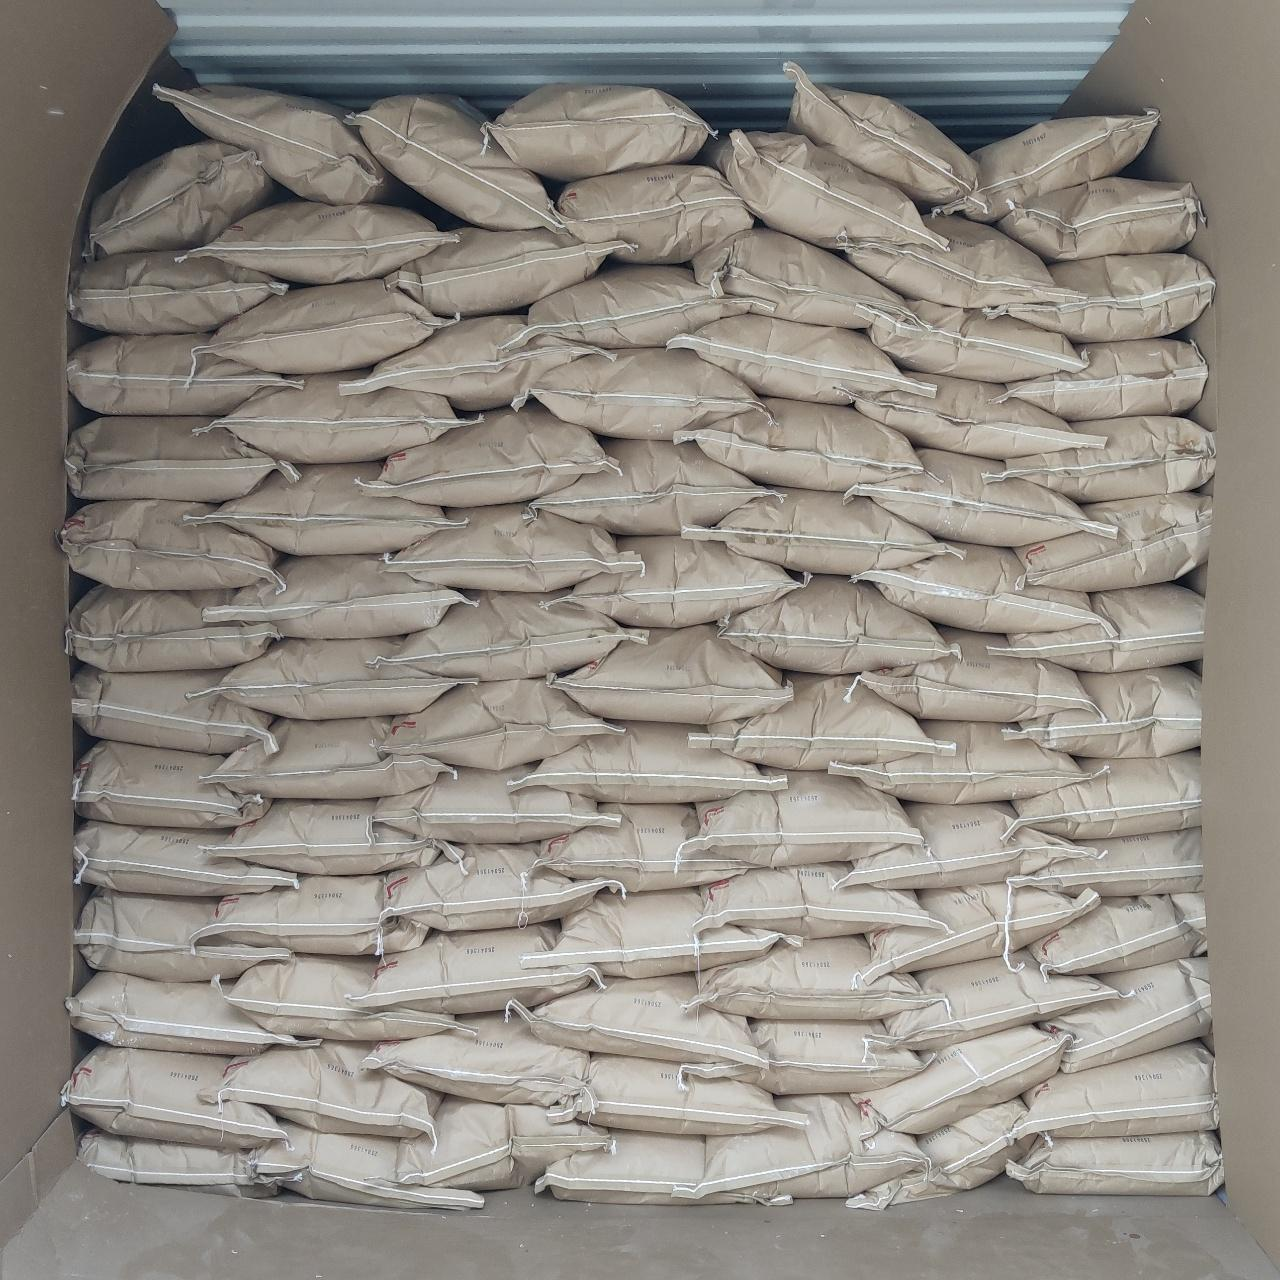sack: (700, 130, 942, 248), (348, 96, 560, 230), (154, 84, 398, 200), (786, 66, 982, 208), (186, 462, 456, 554), (344, 314, 612, 406), (848, 448, 1108, 542), (858, 884, 1096, 986), (372, 404, 612, 504), (212, 372, 476, 462), (854, 1024, 1068, 1134), (550, 626, 788, 724), (200, 280, 446, 374), (696, 674, 940, 768), (872, 954, 1116, 1048), (684, 488, 950, 574), (526, 890, 798, 974), (186, 200, 454, 284), (668, 314, 918, 404), (704, 1096, 920, 1200), (550, 538, 804, 626), (532, 440, 768, 534), (390, 592, 646, 678), (848, 630, 1092, 720), (678, 398, 920, 488), (348, 926, 600, 1012), (506, 976, 756, 1062), (484, 86, 712, 180), (64, 1046, 278, 1146), (694, 226, 908, 326), (386, 504, 634, 590), (352, 1012, 588, 1102), (390, 226, 626, 316), (208, 1042, 438, 1134), (848, 214, 1068, 310), (720, 576, 944, 670), (90, 142, 278, 254), (216, 956, 472, 1038), (856, 544, 1100, 630), (528, 348, 758, 438), (832, 722, 1084, 804), (204, 638, 462, 718), (694, 770, 918, 862), (376, 680, 614, 766), (848, 1100, 1040, 1206), (964, 114, 1156, 220), (68, 972, 316, 1054), (858, 374, 1100, 458), (208, 556, 462, 636), (248, 1122, 482, 1208), (518, 724, 782, 800), (688, 938, 932, 1020), (842, 802, 1080, 886), (546, 1056, 802, 1134), (384, 844, 614, 930), (74, 890, 292, 980), (206, 718, 450, 798), (66, 416, 296, 500), (196, 872, 426, 956), (1016, 492, 1212, 590), (398, 1098, 610, 1188), (1042, 958, 1212, 1070), (62, 500, 278, 588), (554, 166, 752, 262), (534, 1132, 790, 1206), (66, 334, 302, 414), (516, 266, 744, 348), (988, 418, 1214, 500), (990, 584, 1204, 670), (532, 806, 748, 890), (1018, 1042, 1214, 1134), (376, 766, 610, 842), (868, 300, 1084, 382), (214, 800, 460, 872), (68, 586, 278, 670), (1004, 668, 1198, 758), (1012, 254, 1214, 340), (682, 1020, 922, 1092), (72, 666, 276, 750), (696, 864, 934, 936), (72, 252, 286, 332), (1002, 752, 1200, 838), (998, 178, 1206, 258), (74, 742, 270, 824), (74, 822, 296, 894), (1008, 338, 1206, 418), (1020, 894, 1206, 976), (82, 1128, 284, 1196), (1010, 1132, 1222, 1194), (1010, 830, 1198, 894)
